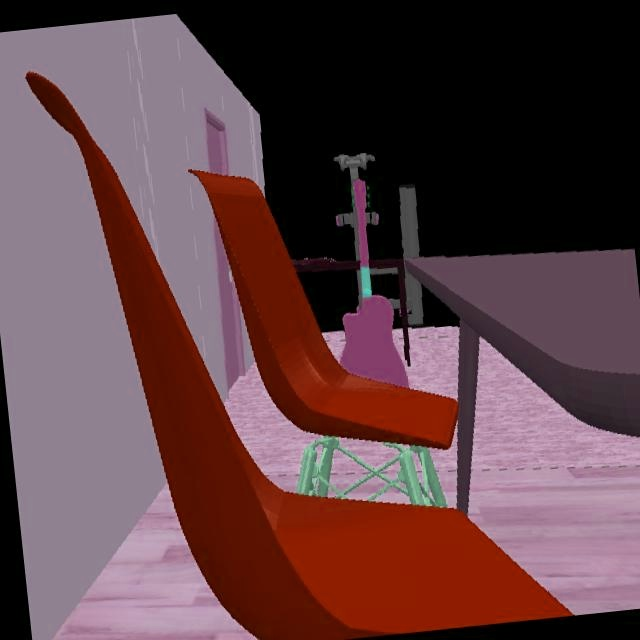chair: (39, 87, 574, 640), (192, 171, 461, 452)
table: (404, 248, 640, 504)
